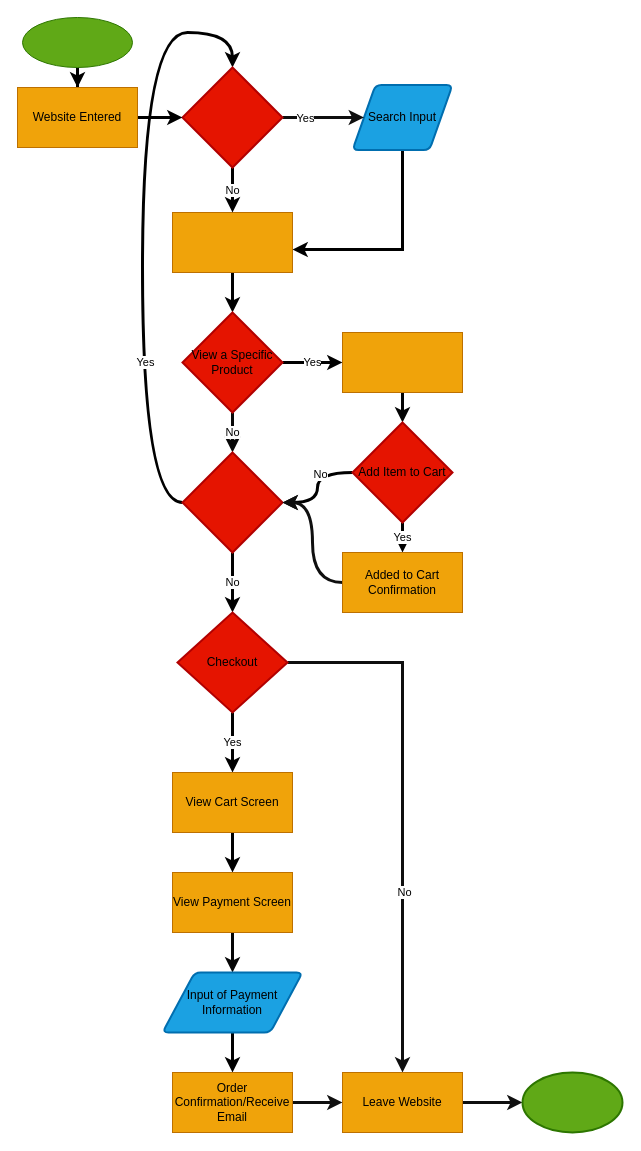
The diagram is 641 pixels wide and 1151 high, and some of its shapes have lost their labels. Each missing label, with the centre of its shape:
Continue Shopping: the point at 232,502
End: the point at 572,1102
Looking at Products: the point at 232,242
Open Product's Webpage: the point at 402,362
Search for a Product: the point at 232,117
Start: the point at 77,42
